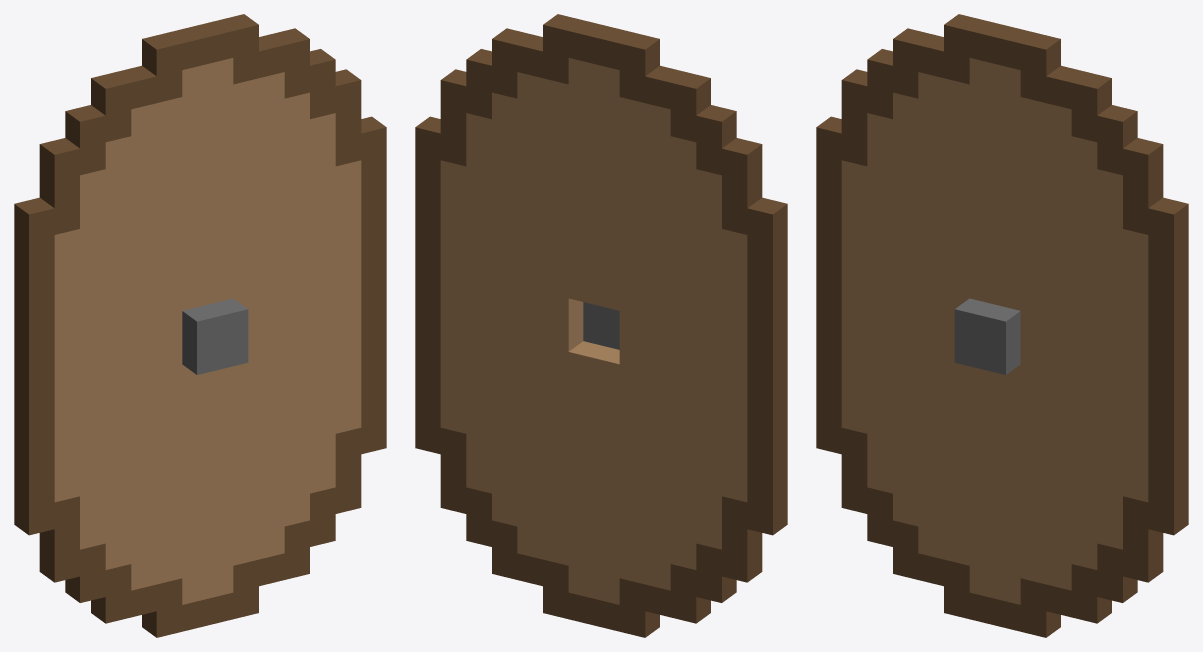
Rendered from humanoid-37-shield_hvy_1.obj.
The picture shows the model from 3 angles, left to right: view 1: azimuth 30°, elevation 25°; view 2: azimuth 150°, elevation 25°; view 3: azimuth 330°, elevation 25°; orthographic projection.
Visible parts, largest first — view 1: shield_hvy_1; view 2: shield_hvy_1; view 3: shield_hvy_1.
Part boxes in pixels (box(x1,y1,x2,y2)): shield_hvy_1: box(14, 14, 386, 637); shield_hvy_1: box(415, 14, 787, 637); shield_hvy_1: box(816, 14, 1188, 637).
Bounding box in the file's own units: 1.4 × 2.2 × 0.2.
1 material, 1 textured.
